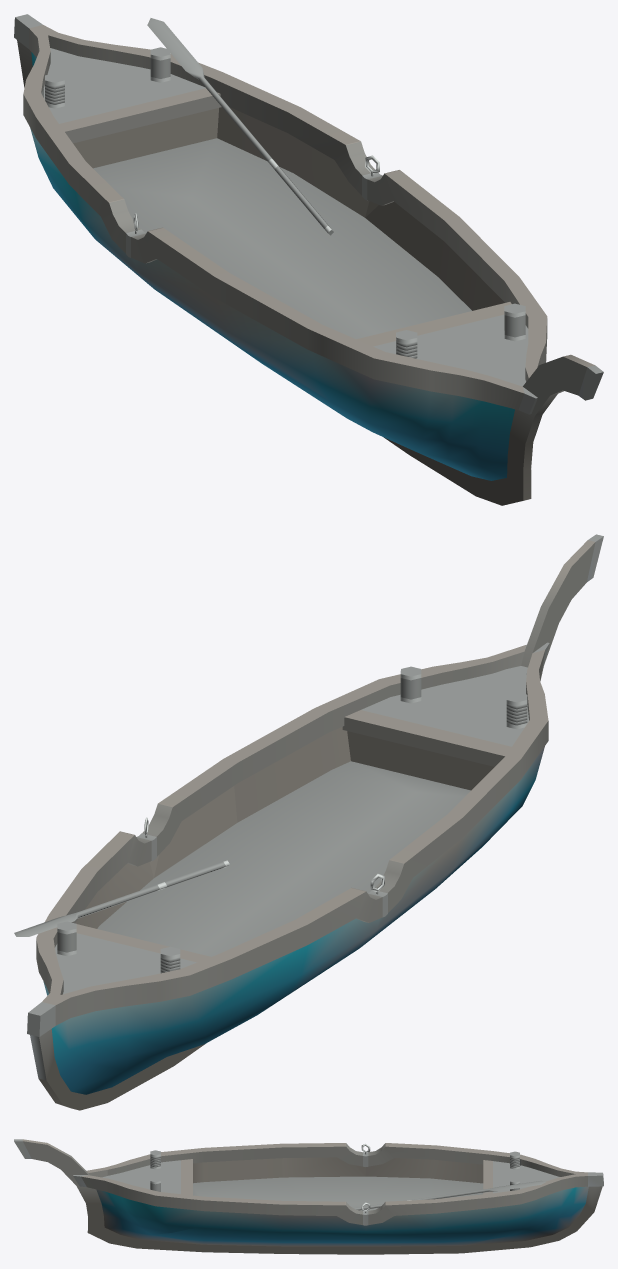
3 views of the same model, one above another, from view 1: azimuth 30°, elevation 25°; view 2: azimuth 150°, elevation 25°; view 3: azimuth 270°, elevation 25° (orthographic). The views are drawn at different scales.
Visible parts, largest first — view 1: G:\FFXIV-MapTools\exports\s1f3\bg\ffxiv\sea_s1\fld\s1f3\bgpa (×3); view 2: G:\FFXIV-MapTools\exports\s1f3\bg\ffxiv\sea_s1\fld\s1f3\bgpa (×3); view 3: G:\FFXIV-MapTools\exports\s1f3\bg\ffxiv\sea_s1\fld\s1f3\bgpa (×3).
Part boxes in pixels (bbox=[...]): G:\FFXIV-MapTools\exports\s1f3\bg\ffxiv\sea_s1\fld\s1f3\bgpa (×3): bbox=[14, 14, 603, 505]; G:\FFXIV-MapTools\exports\s1f3\bg\ffxiv\sea_s1\fld\s1f3\bgpa (×3): bbox=[14, 534, 603, 1110]; G:\FFXIV-MapTools\exports\s1f3\bg\ffxiv\sea_s1\fld\s1f3\bgpa (×3): bbox=[14, 1139, 603, 1254].
Size of the model in its own units: 3.69 by 3.12 by 14.7.
